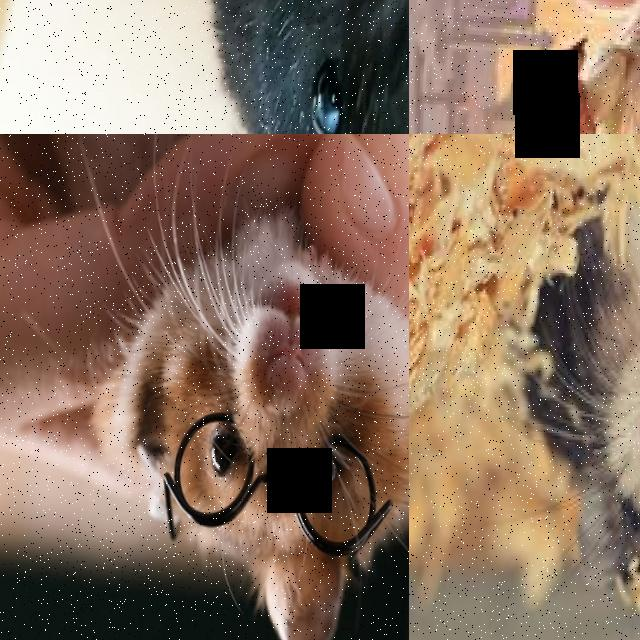hamster: (76, 207, 409, 640), (512, 205, 640, 609), (186, 0, 409, 134), (525, 0, 640, 134)
